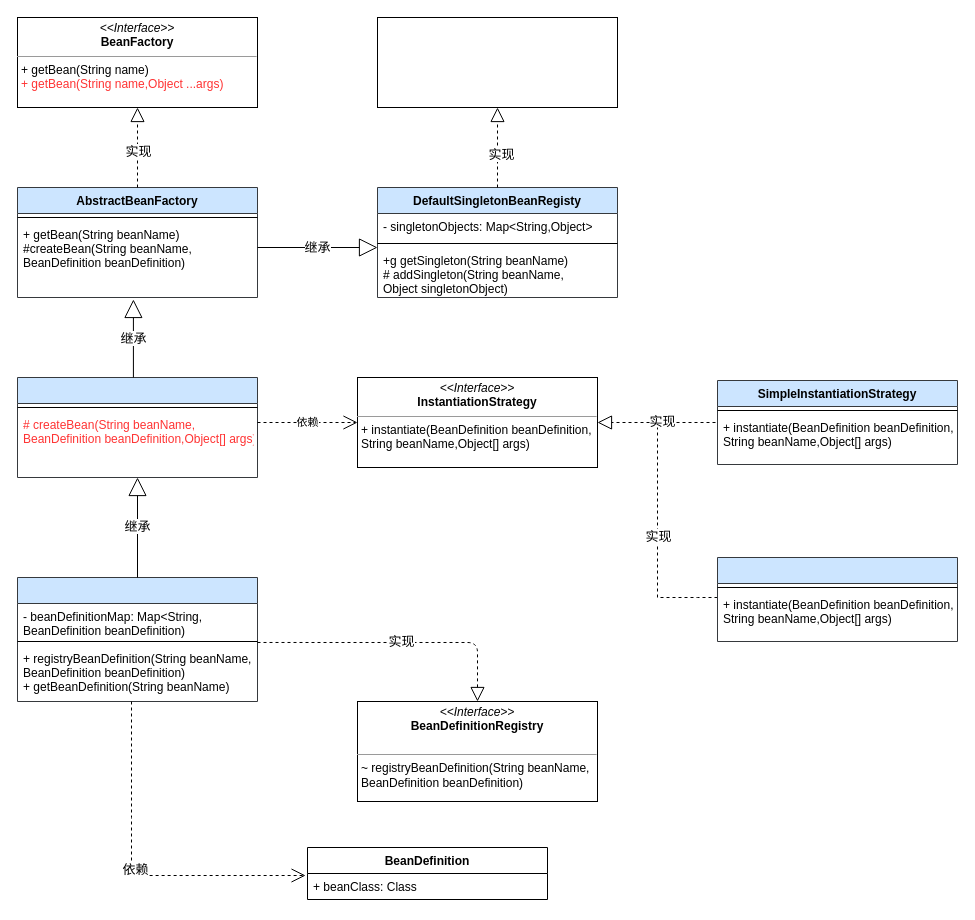
Some shapes in this 975 by 920 pixel diagram are drawn without their labels. The shapes that lost their labels are listed below. From the top down, each one's box as (x1, y1, x2, y2) in pixels, then its label:
(376, 16, 618, 108): <<Interface>> SingletonBeanRegistry + getSingleton(String beanName)
(16, 376, 258, 478): AbstractAutowireCapableBeanFactory
(716, 556, 958, 642): CglibSubclassingInstantiationStrategy
(16, 576, 258, 702): DefaultListableBeanFactory
